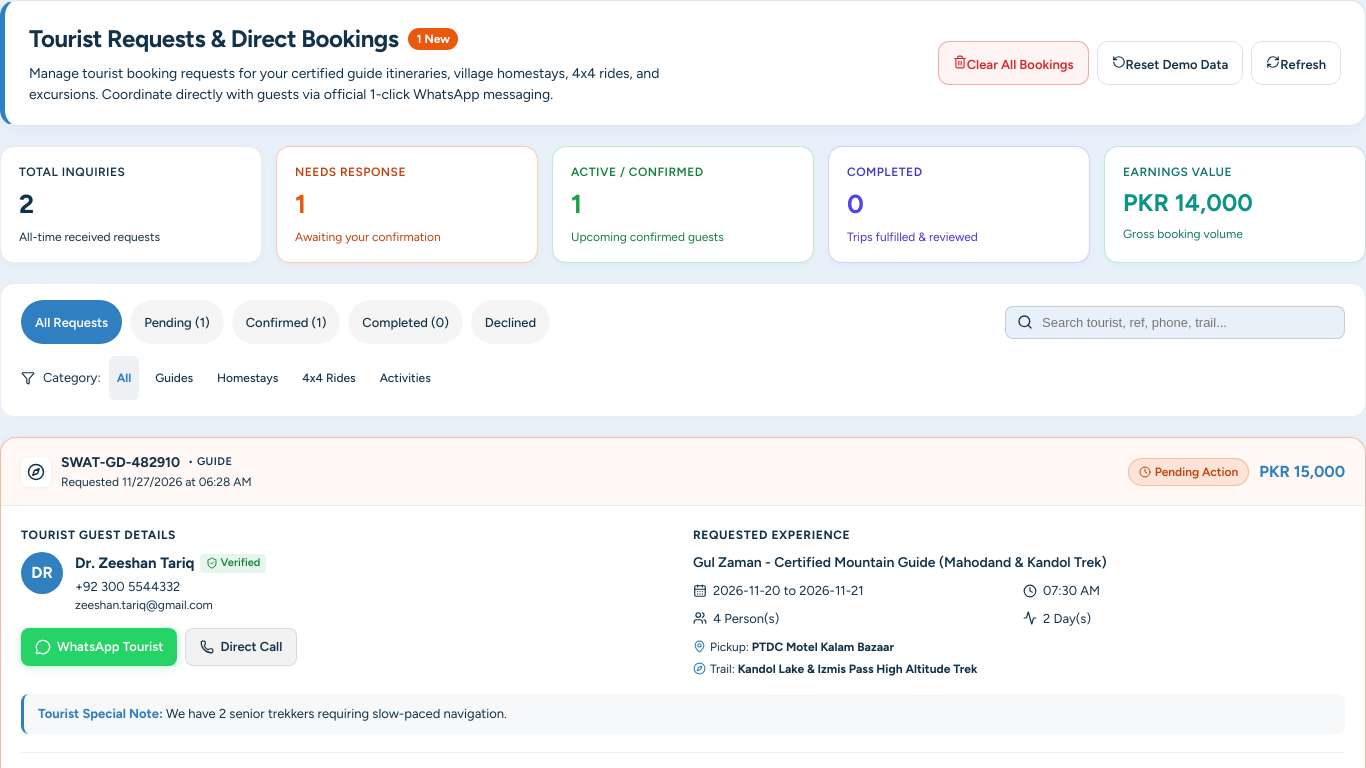
Test: Community Tourist Requests & WhatsApp Communication Portal › 10. Restores demo requests when clicking Reset Demo Data or Restore Demo Requests
Check: the text "SWAT-GD-482910" is shown, box [61,452,180,473]
Note: Clear first
Click the button with test id "btn-clear-all-requests" at (1013, 63), box [938,41,1088,85]
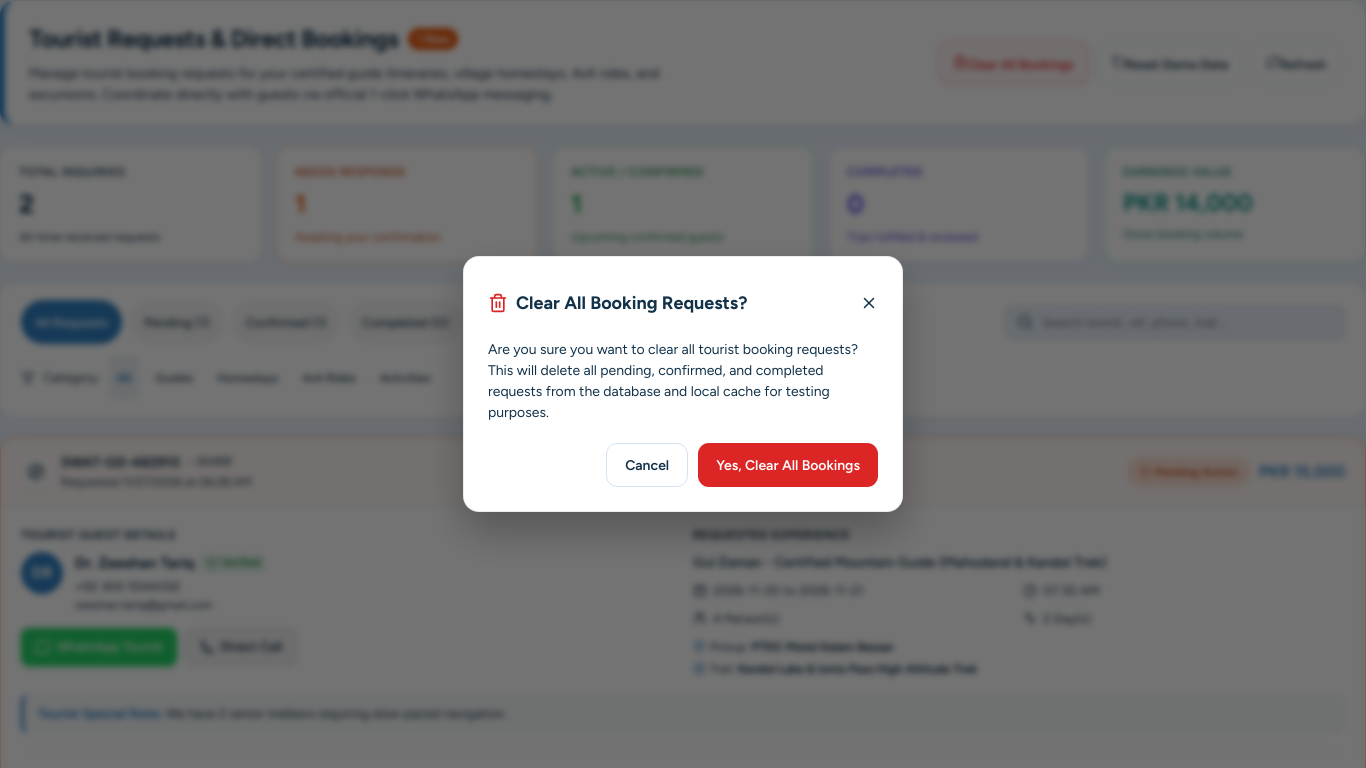
Click the button with test id "btn-confirm-clear-all" at (788, 465), box [698,443,878,487]
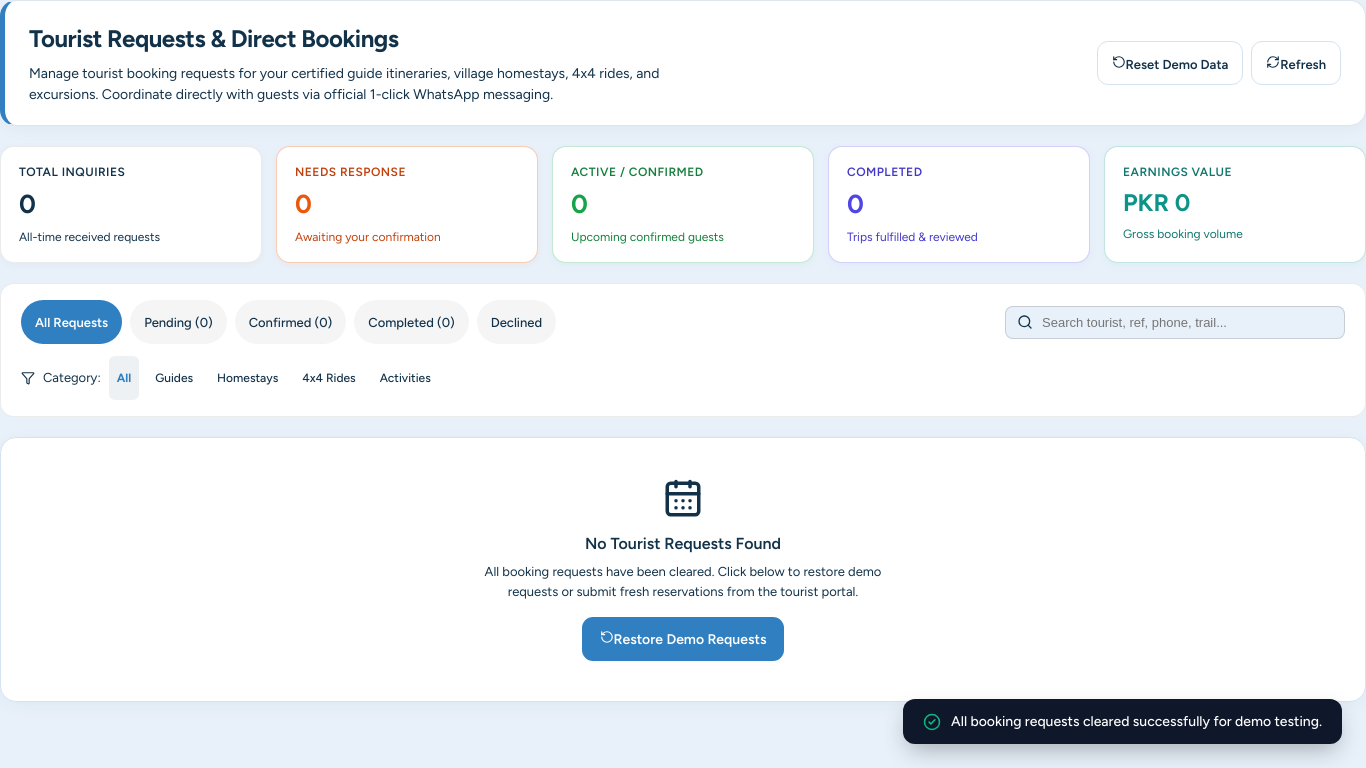
Check: the heading "No Tourist Requests Found" is shown, box [585,534,781,553]
Note: Now restore
Click the button "Restore Demo Requests" at (683, 639), box [582,617,784,661]
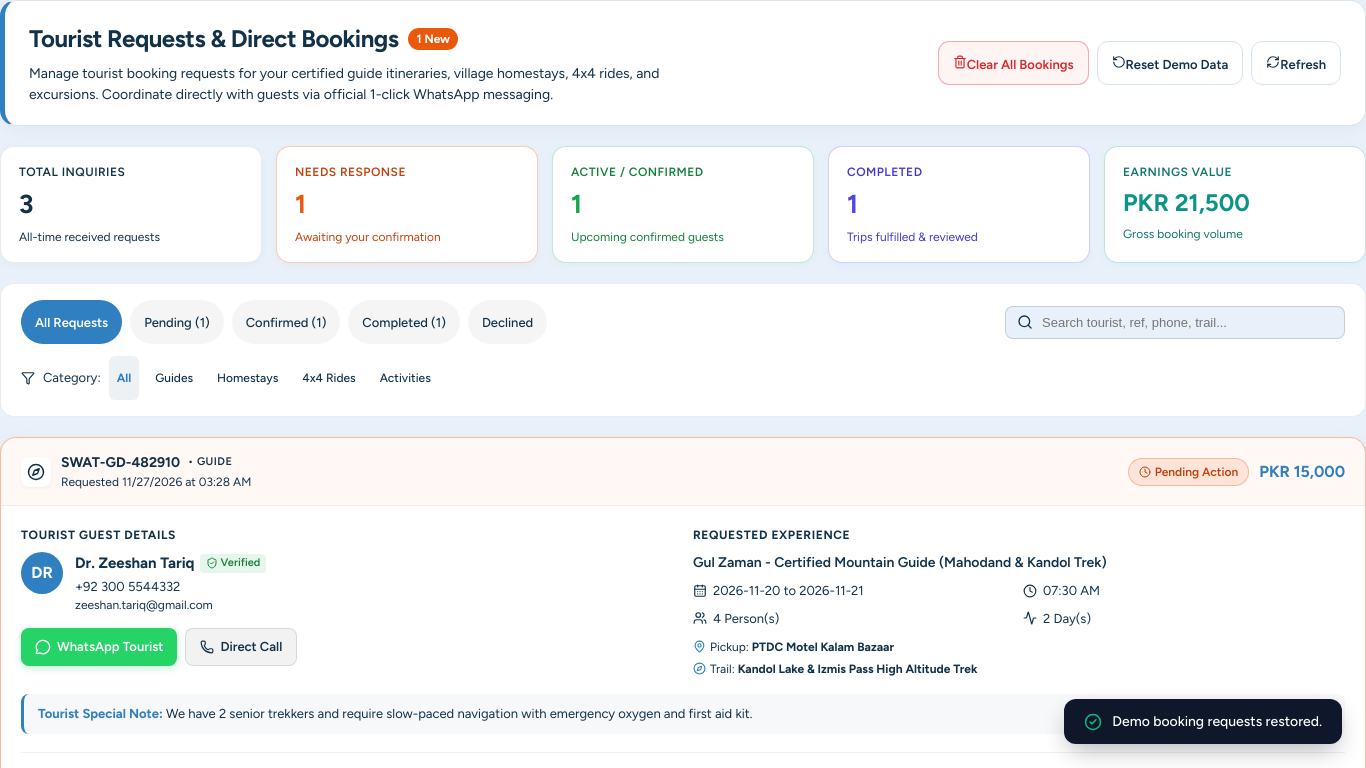
Check: the text "SWAT-GD-482910" is shown, box [61,452,180,473]
